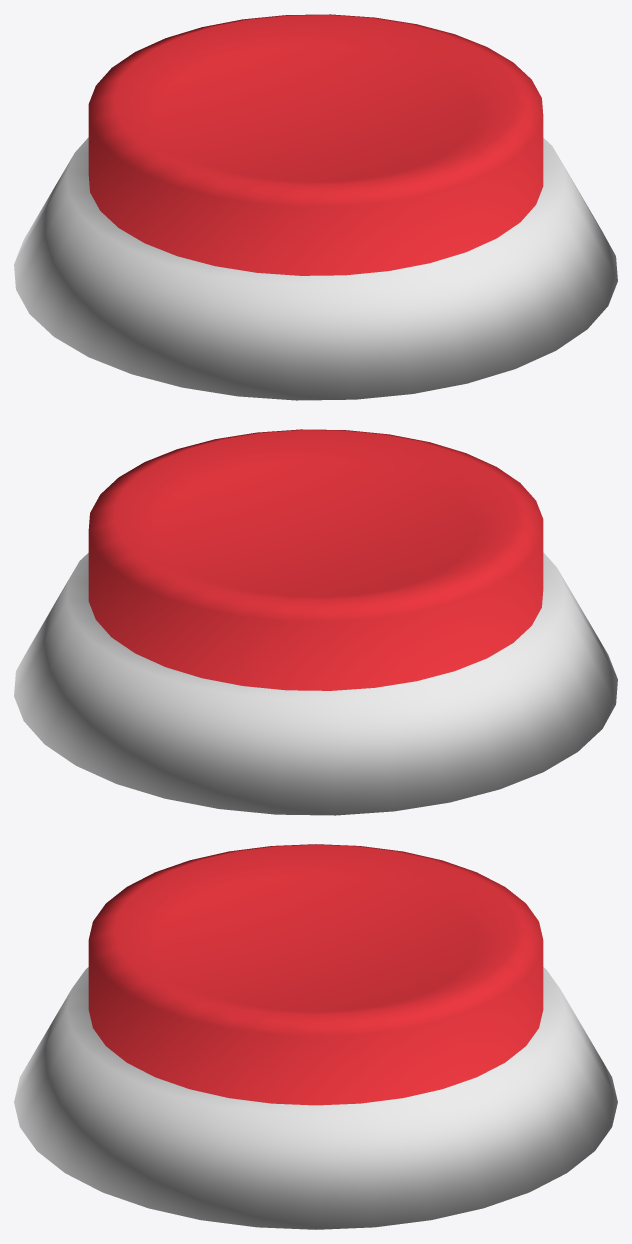
File: Button.fbx
3 views of the same model, one above another, from view 1: azimuth 30°, elevation 25°; view 2: azimuth 150°, elevation 25°; view 3: azimuth 270°, elevation 25° (orthographic).
Parts seen in each view (by area): view 1: Cylinder; view 2: Cylinder; view 3: Cylinder.
Part boxes in pixels (<box>): Cylinder: <box>14,14,617,400</box>; Cylinder: <box>14,429,617,815</box>; Cylinder: <box>14,844,617,1229</box>.
Bounding box in the file's own units: 200 × 73.24 × 200.
